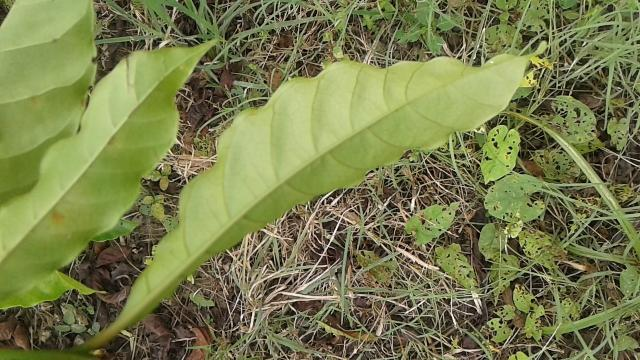healthy: (122, 55, 530, 326)
